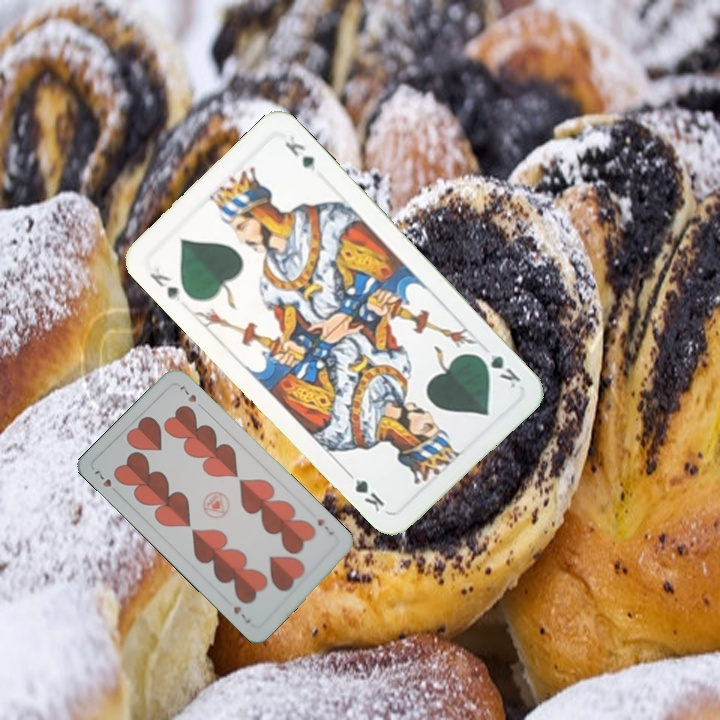GK: (472, 348, 524, 391), (145, 262, 186, 305)
H7: (90, 466, 122, 497), (313, 515, 337, 538)
